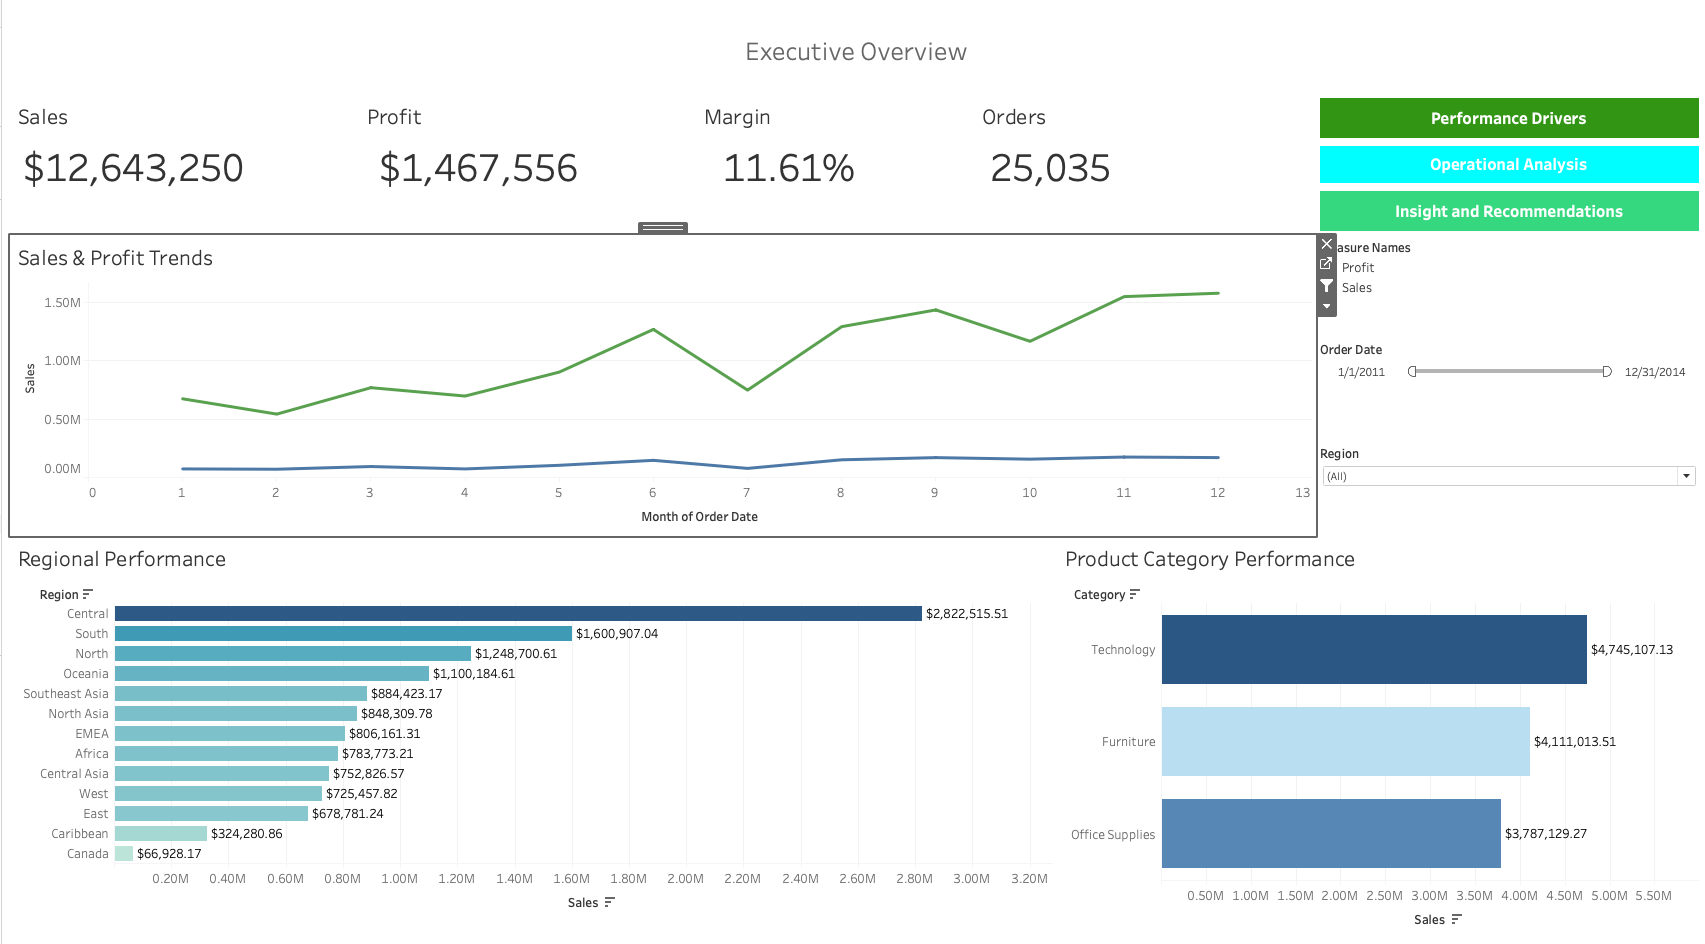

The page's visual inventory and layout, read from the dashboard file:
{"tool":"tableau","page":{"name":"Page 1","canvas":[1000,1000],"units":"permille","ordinal":0},"visuals":[{"type":"text","box":[6.4,10.5,987.3,91.2]},{"type":"worksheet","title":"P1 1","mark":"Automatic","box":[6.4,101.7,203.3,148.3]},{"type":"worksheet","title":"P1 2","mark":"Automatic","box":[209.7,101.7,197,148.3]},{"type":"worksheet","title":"P1 3","mark":"Automatic","box":[406.7,101.7,162,148.3]},{"type":"worksheet","title":"P1 4","mark":"Automatic","box":[568.7,101.7,199.2,148.3]},{"type":"dashboard-object","box":[767.9,101.7,225.8,50.7]},{"type":"dashboard-object","box":[767.9,152.4,225.8,46.9]},{"type":"dashboard-object","box":[767.9,199.2,225.8,50.8]},{"type":"worksheet","title":"P1 5","mark":"Automatic","cols":["Order Date"],"box":[6.4,250,761.5,316]},{"type":"legend","title":"P1 5","param":"[federated.0vdm7c1130wqvm1644y8f11i72go].[:Measure Names]","box":[767.9,250,225.8,106.8]},{"type":"filter","title":"P1 5","param":"[federated.0vdm7c1130wqvm1644y8f11i72go].[none:Order Date:qk]","box":[767.9,356.8,225.8,109.4]},{"type":"filter","title":"P1 5","param":"[federated.0vdm7c1130wqvm1644y8f11i72go].[none:Region:nk]","box":[767.9,466.1,225.8,99.9]},{"type":"worksheet","title":"P1 6","mark":"Automatic","rows":["Region"],"cols":["Sales"],"box":[6.4,566,474.2,423.5]},{"type":"worksheet","title":"P1 7","mark":"Automatic","rows":["Category"],"cols":["Sales"],"box":[480.5,566,513.1,423.5]}]}

Visuals, with their boxes on the dashboard's canvas, which has no fixed pixel size, in thousandths of its width and height (x1, y1, x2, y2). These are canvas units, not pixel positions in the 1705x944 screenshot, which may show the page scaled, cropped or inside an application window:
text: locate(6, 10, 994, 102)
"P1 1" worksheet: locate(6, 102, 210, 250)
"P1 2" worksheet: locate(210, 102, 407, 250)
"P1 3" worksheet: locate(407, 102, 569, 250)
"P1 4" worksheet: locate(569, 102, 768, 250)
dashboard-object: locate(768, 102, 994, 152)
dashboard-object: locate(768, 152, 994, 199)
dashboard-object: locate(768, 199, 994, 250)
"P1 5" worksheet: locate(6, 250, 768, 566)
"P1 5" legend: locate(768, 250, 994, 357)
"P1 5" filter: locate(768, 357, 994, 466)
"P1 5" filter: locate(768, 466, 994, 566)
"P1 6" worksheet: locate(6, 566, 481, 990)
"P1 7" worksheet: locate(480, 566, 994, 990)
